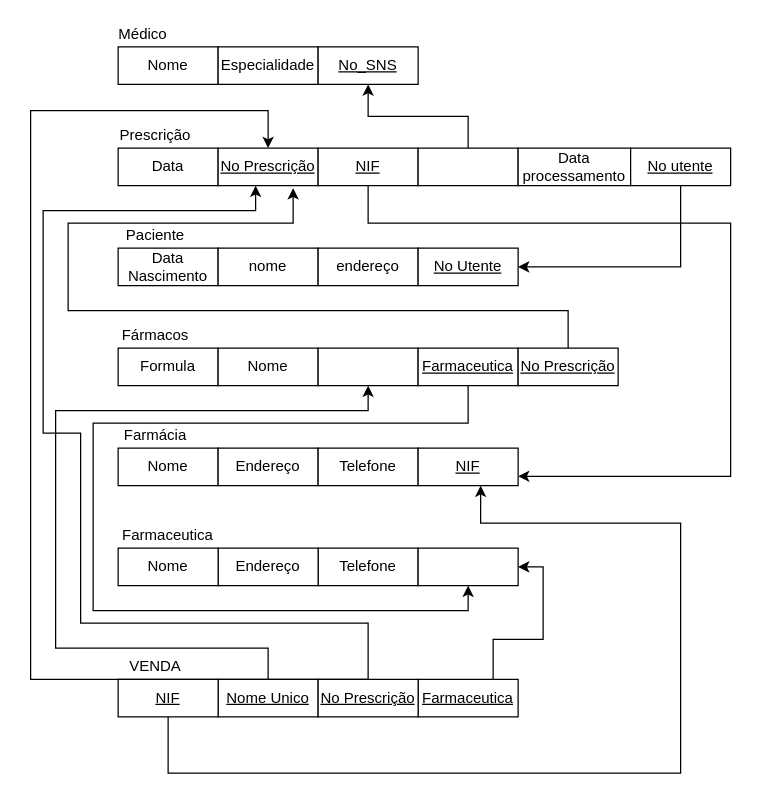
Image size: 763x805. Some labels were removed from this diagram. The centre of each missing label's shape, as x and y in pixels:
"No Registo Nacional" belongs at (467,566).
"No SNS" belongs at (467,166).
"Nome_Unico" belongs at (367,366).
